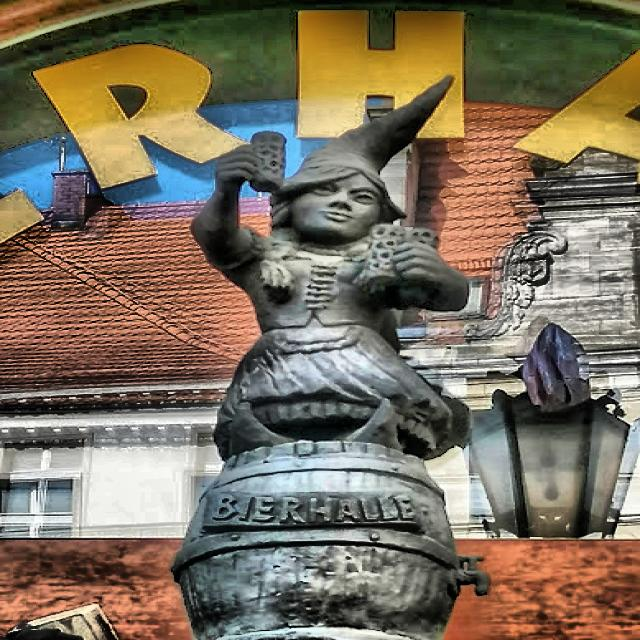Bawarka: (172, 77, 488, 640)
